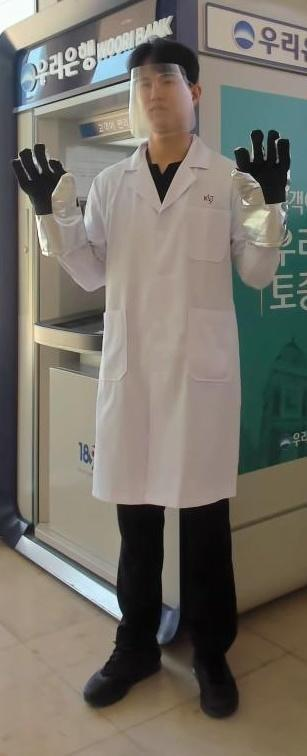lab_coat: (82, 172, 242, 502)
